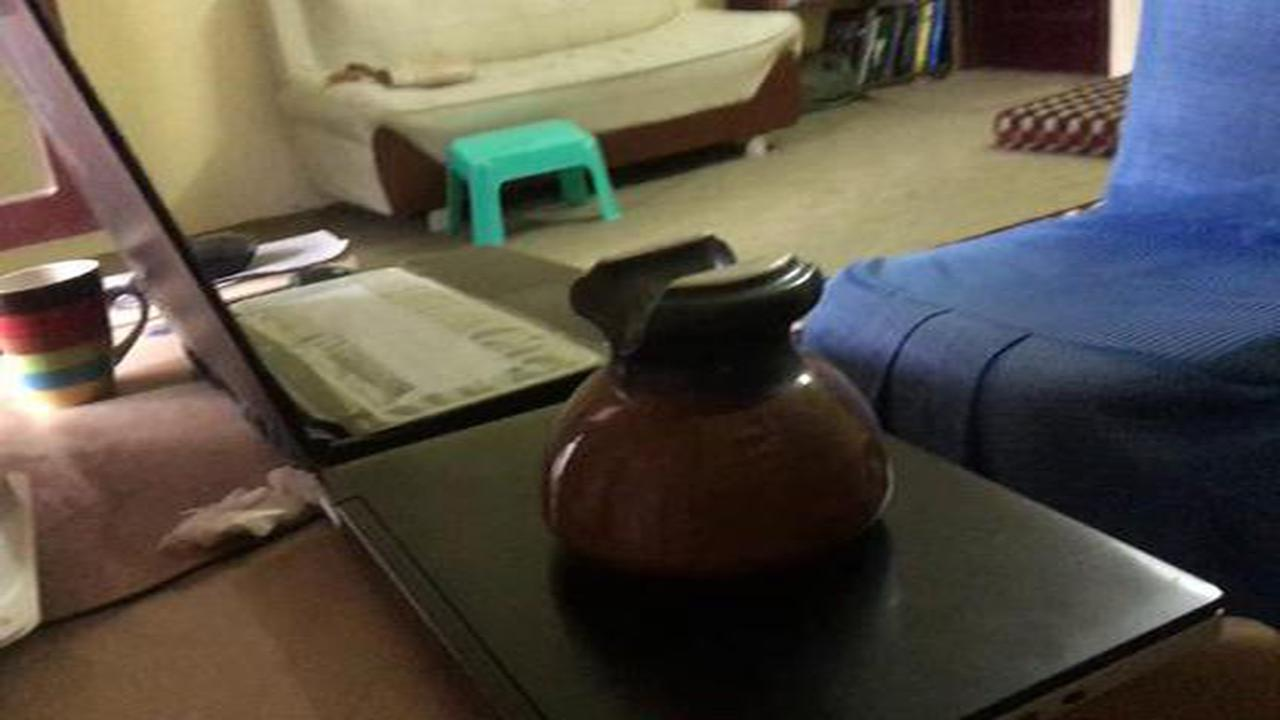insulator_pin: (517, 224, 914, 601)
